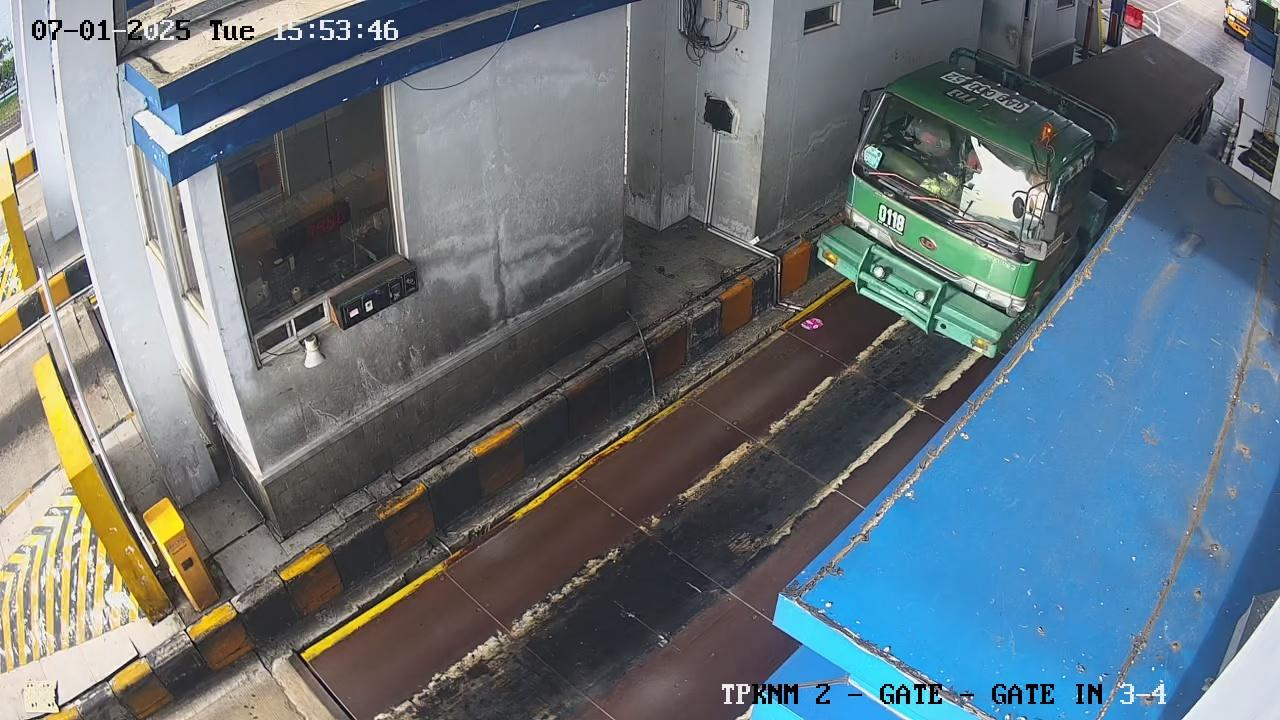truck_id: (867, 195, 913, 243)
